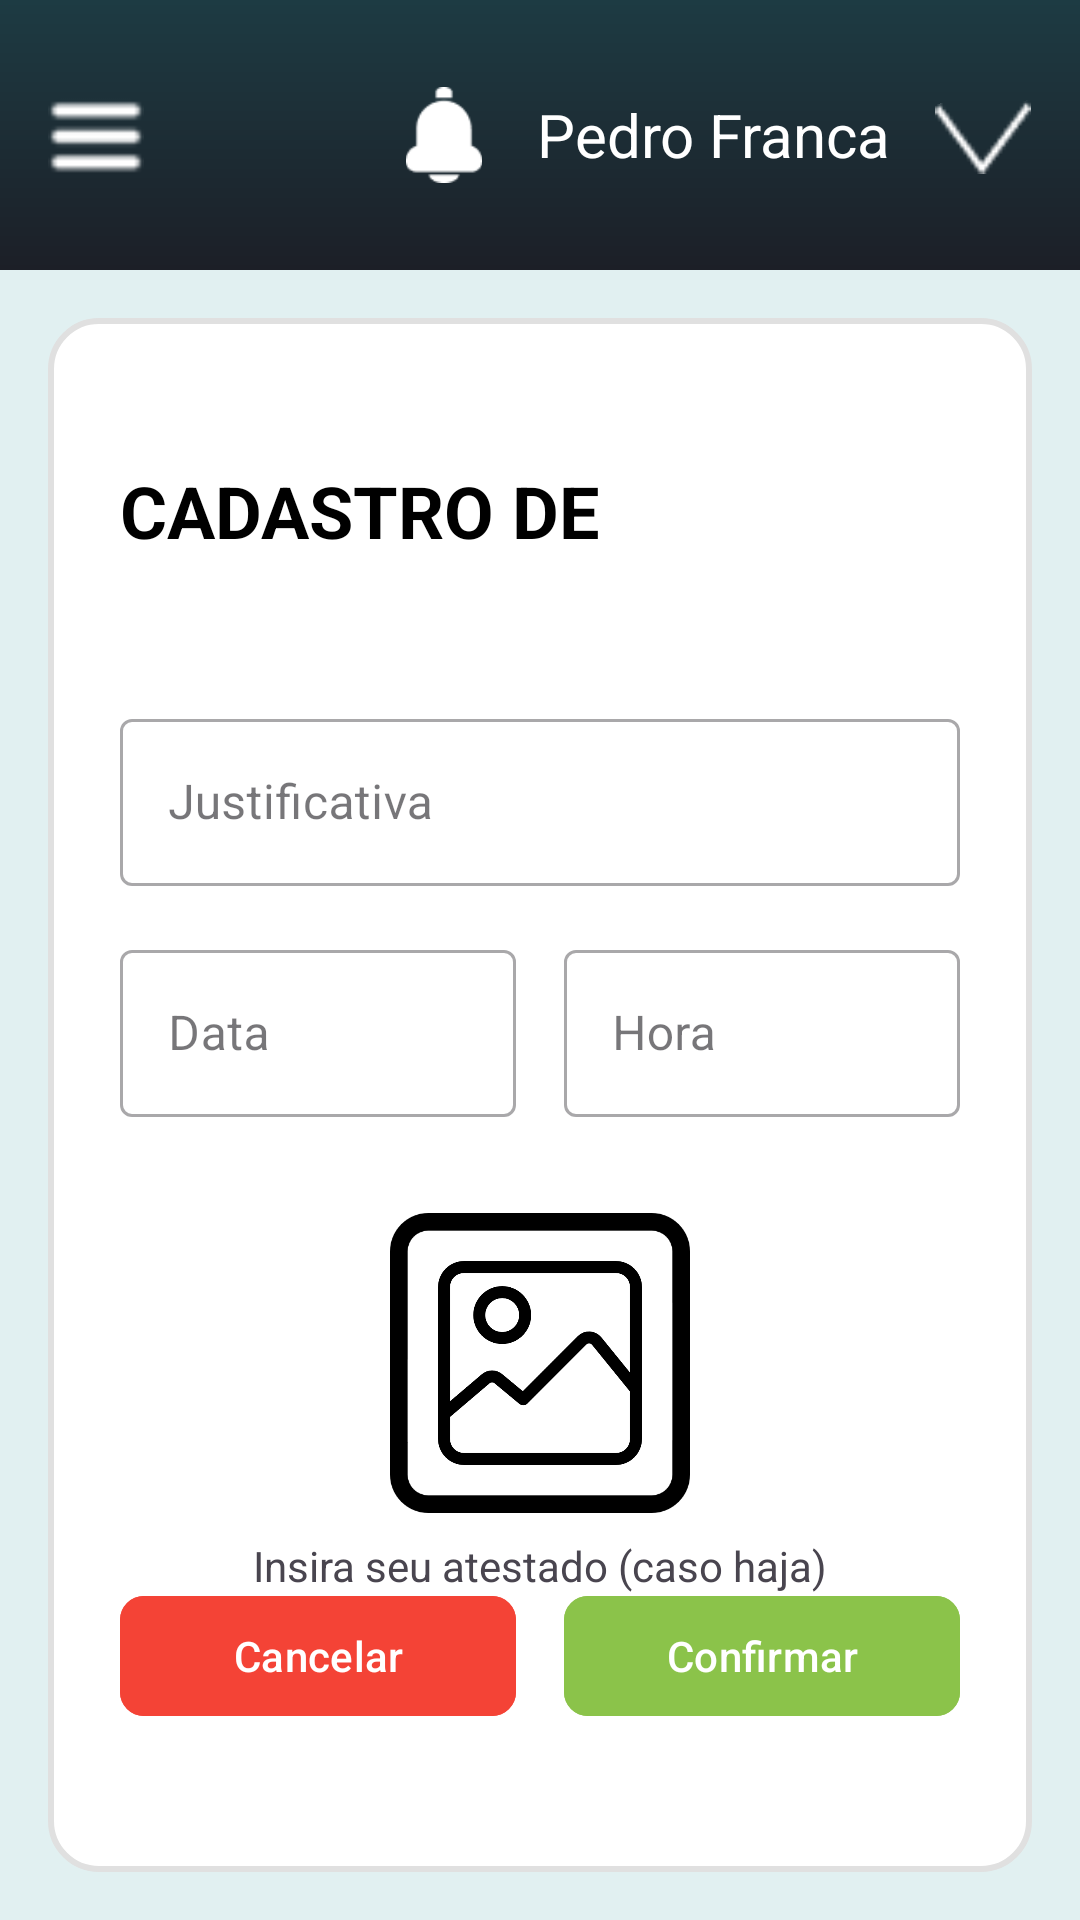

Locate icon controls on the screen. Image size 1080 x 1920, boxes as (x1, y1, x2, y2).
insert photo: (390, 1213, 690, 1513)
menu: (50, 101, 142, 172)
notification bell: (406, 87, 482, 183)
